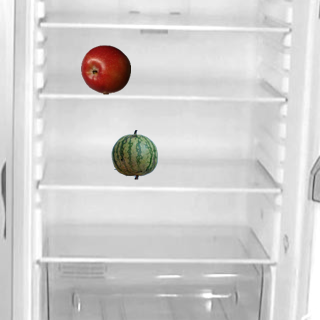Apple Braeburn: (80, 44, 130, 94)
Watermelon: (109, 129, 159, 179)
